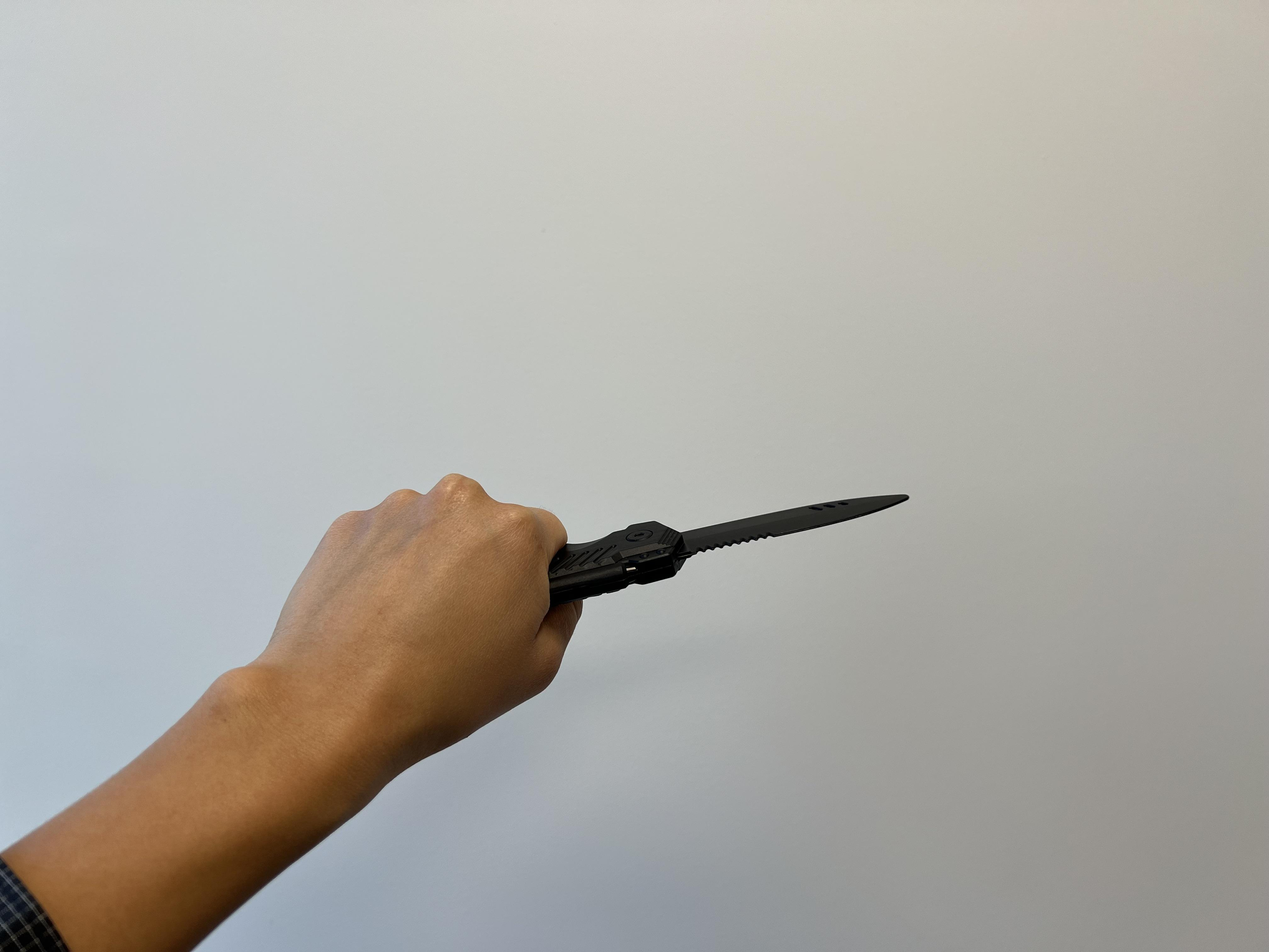Knife: (0, 472, 582, 952), (290, 473, 579, 753), (548, 477, 909, 639)
